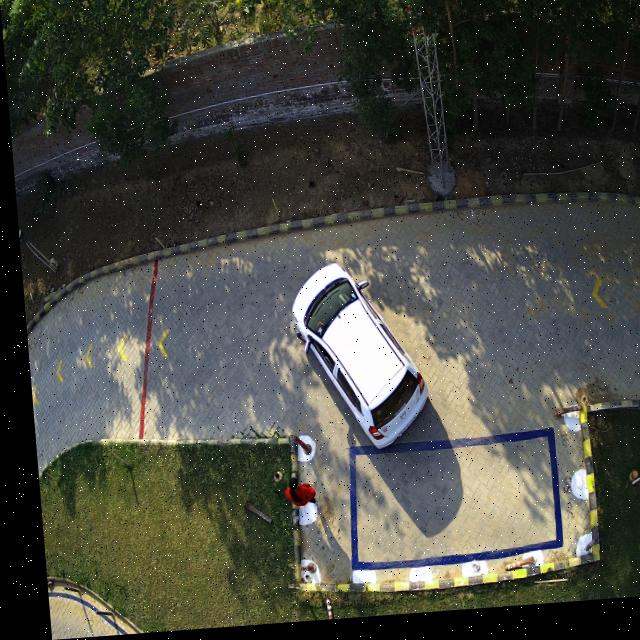car: (287, 266, 422, 458)
